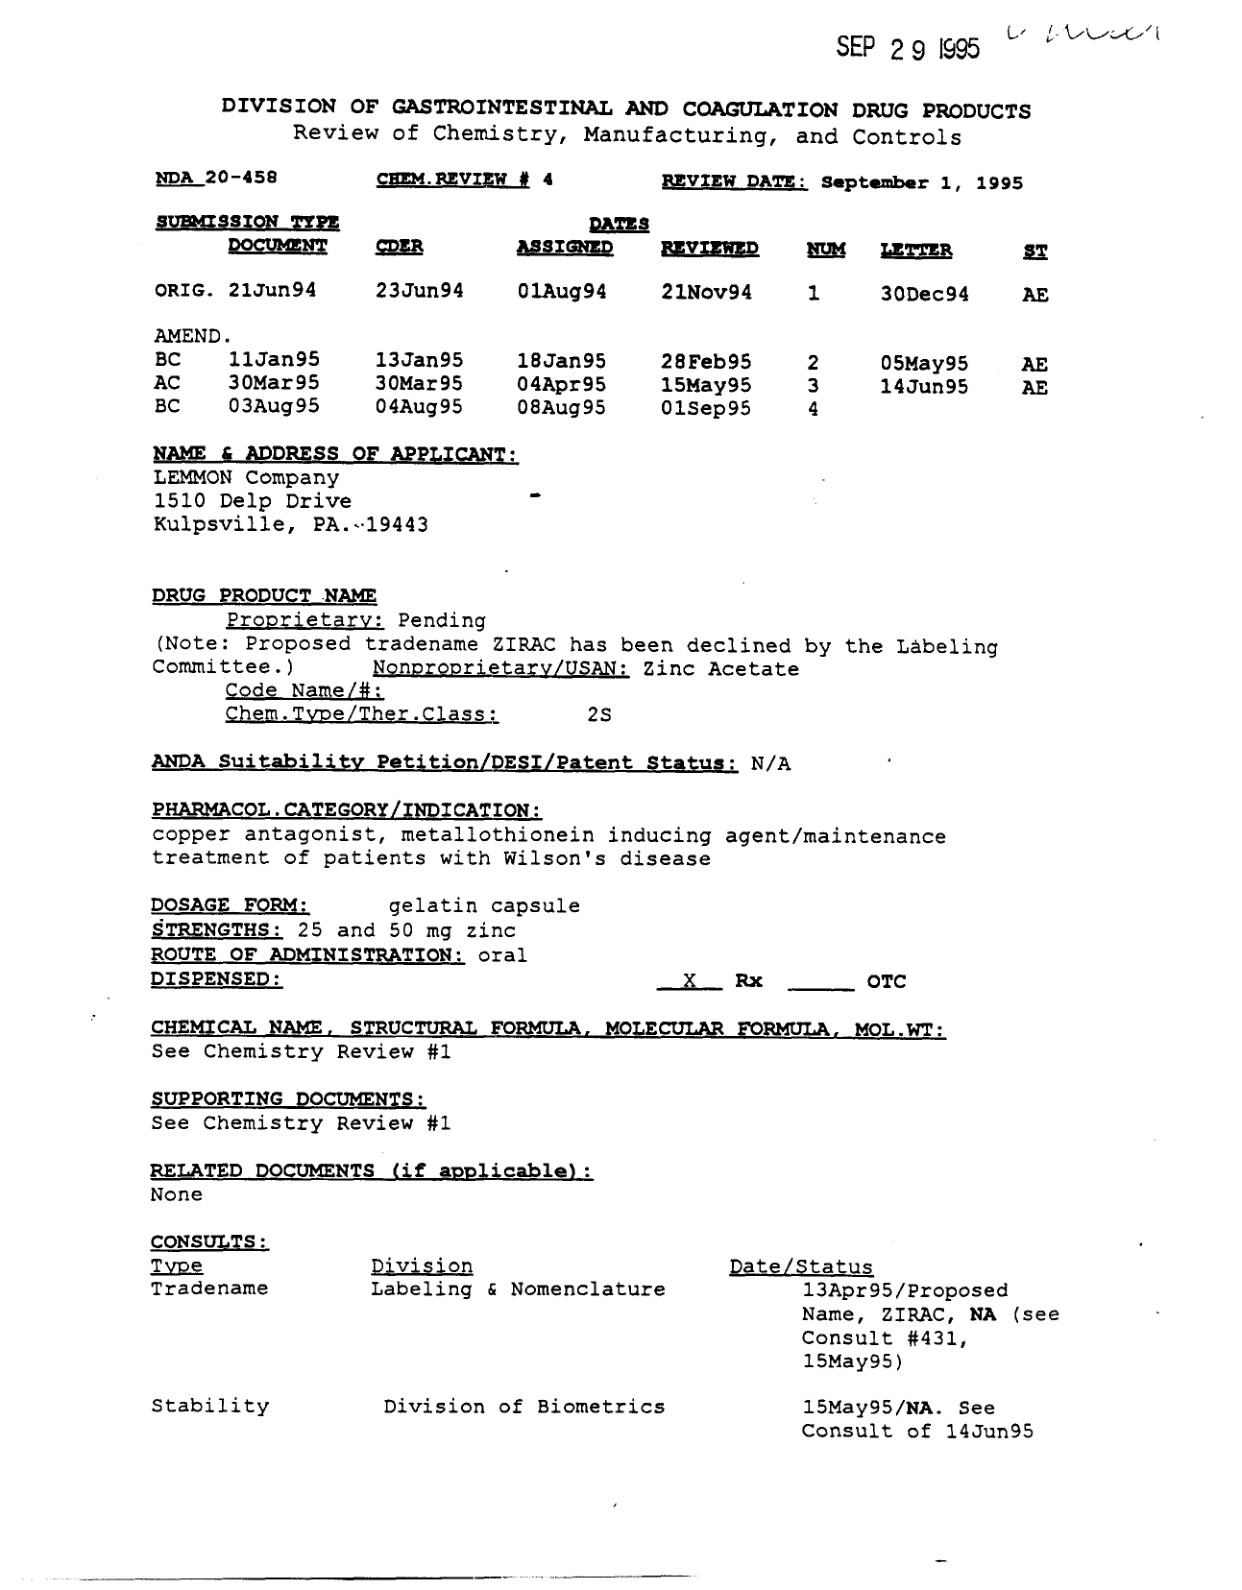nolines: (150, 212, 1056, 417), (148, 1257, 1060, 1440)
